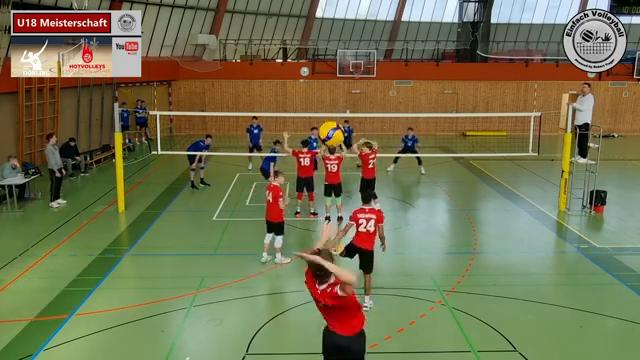Player: (332, 192, 385, 310), (283, 133, 317, 217), (261, 170, 289, 263), (353, 138, 378, 205), (322, 146, 343, 222), (302, 124, 321, 197), (186, 134, 211, 189), (260, 140, 281, 179), (246, 116, 262, 152), (398, 127, 418, 153), (342, 120, 355, 151)
Serve: (296, 219, 374, 360)
ball: (318, 119, 343, 147)
